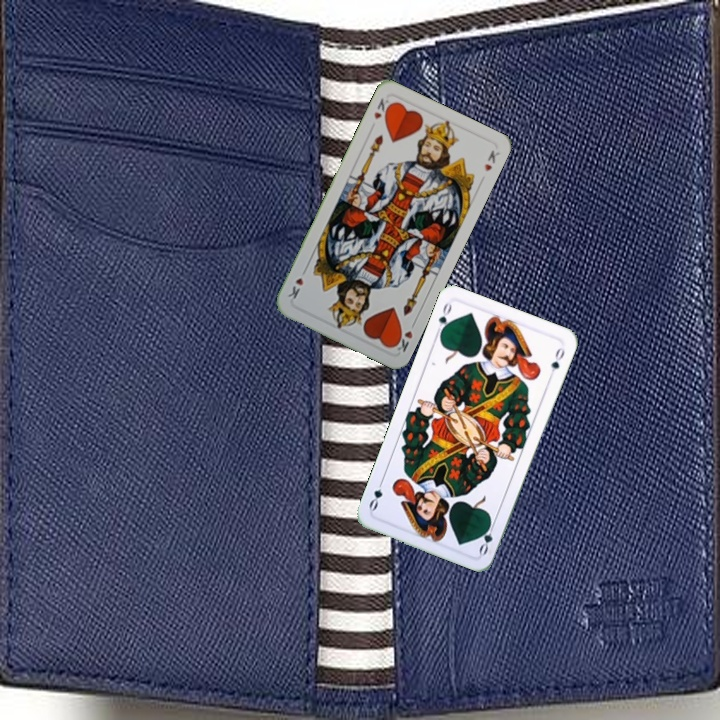GO: (475, 516, 498, 557), (432, 298, 454, 339)
HK: (389, 317, 419, 355), (370, 94, 395, 122)
